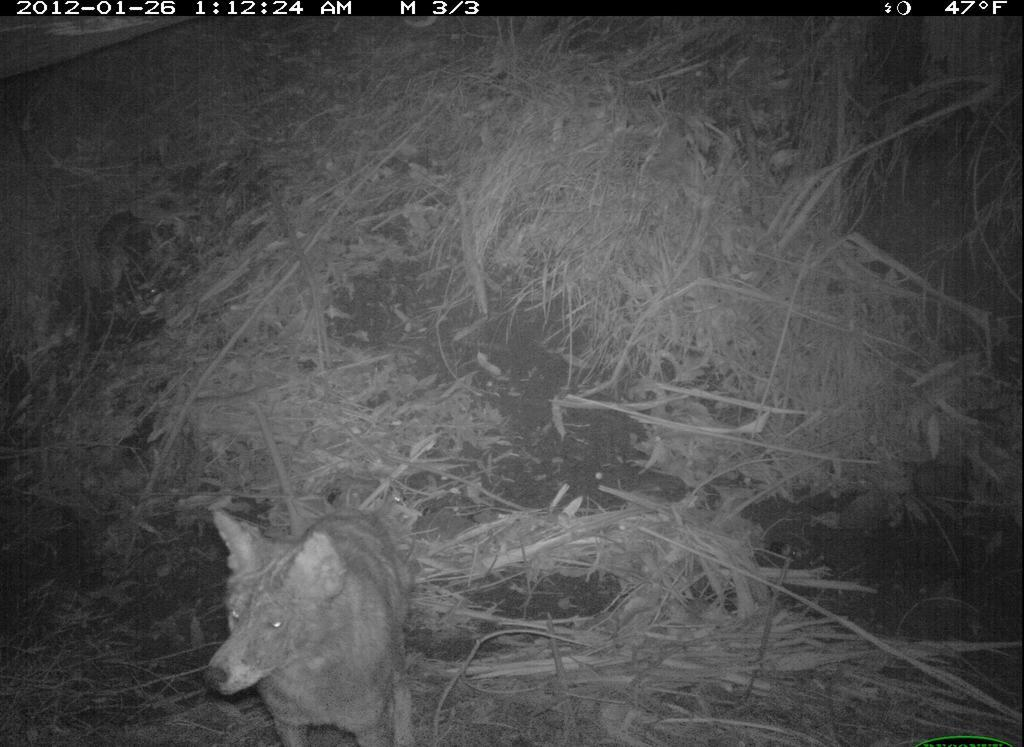coyote: (198, 498, 427, 747)
